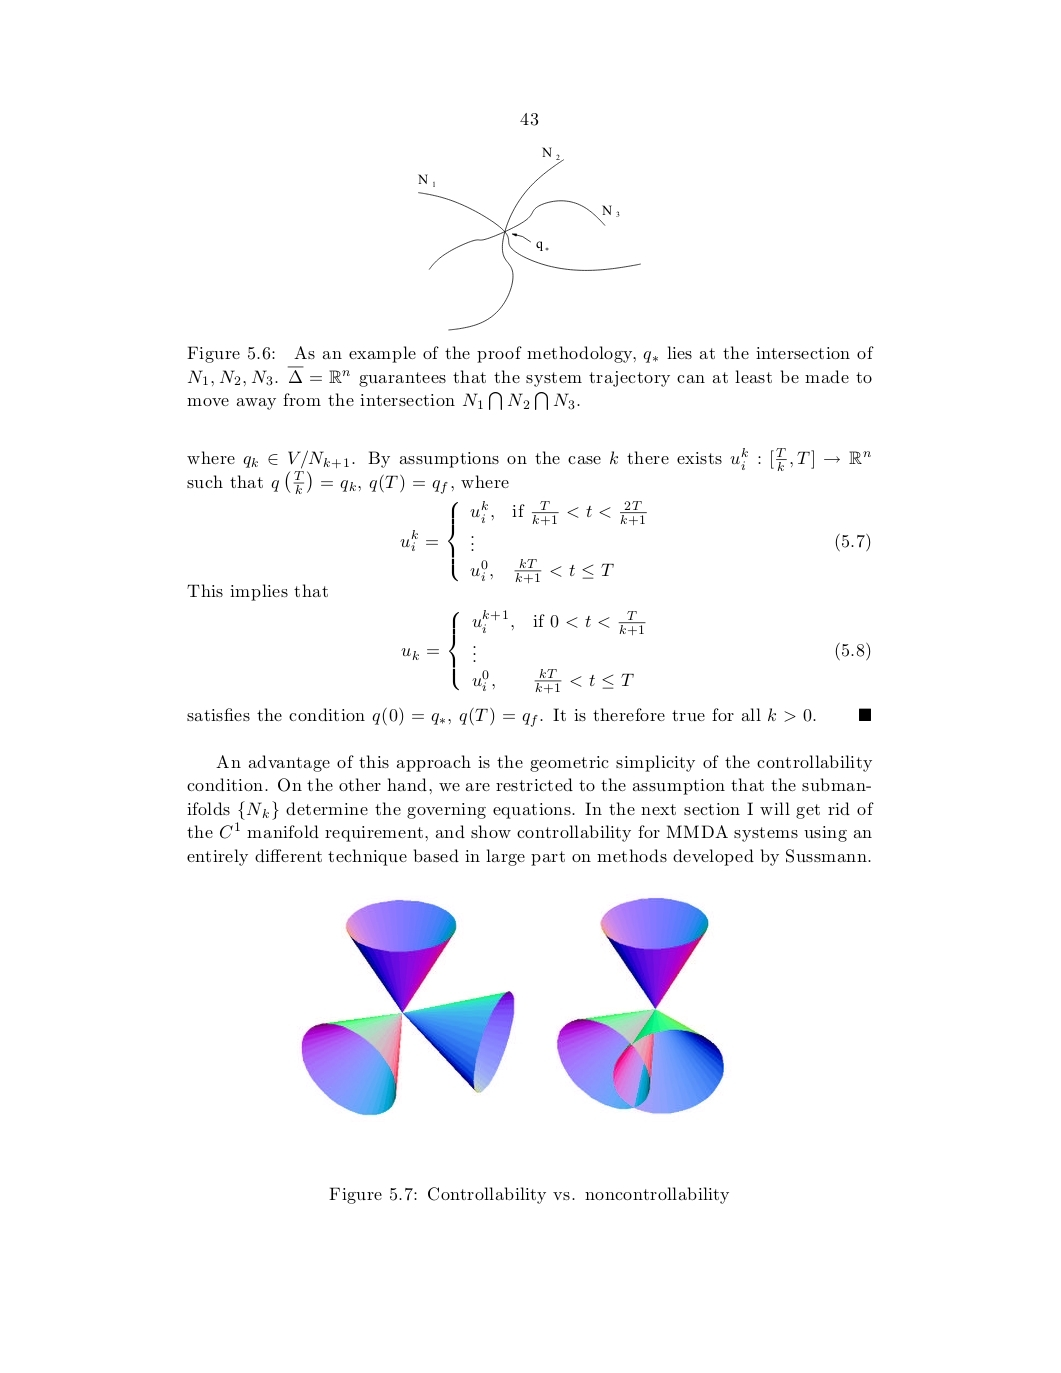figure: (302, 899, 513, 1114), (418, 146, 640, 331), (557, 897, 723, 1114)
formula: (401, 608, 870, 694), (400, 502, 870, 583)
